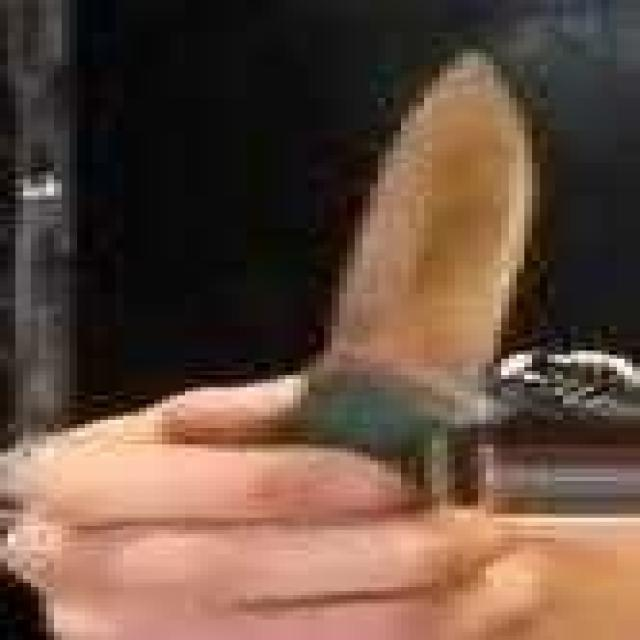Knife: (239, 40, 553, 568)
